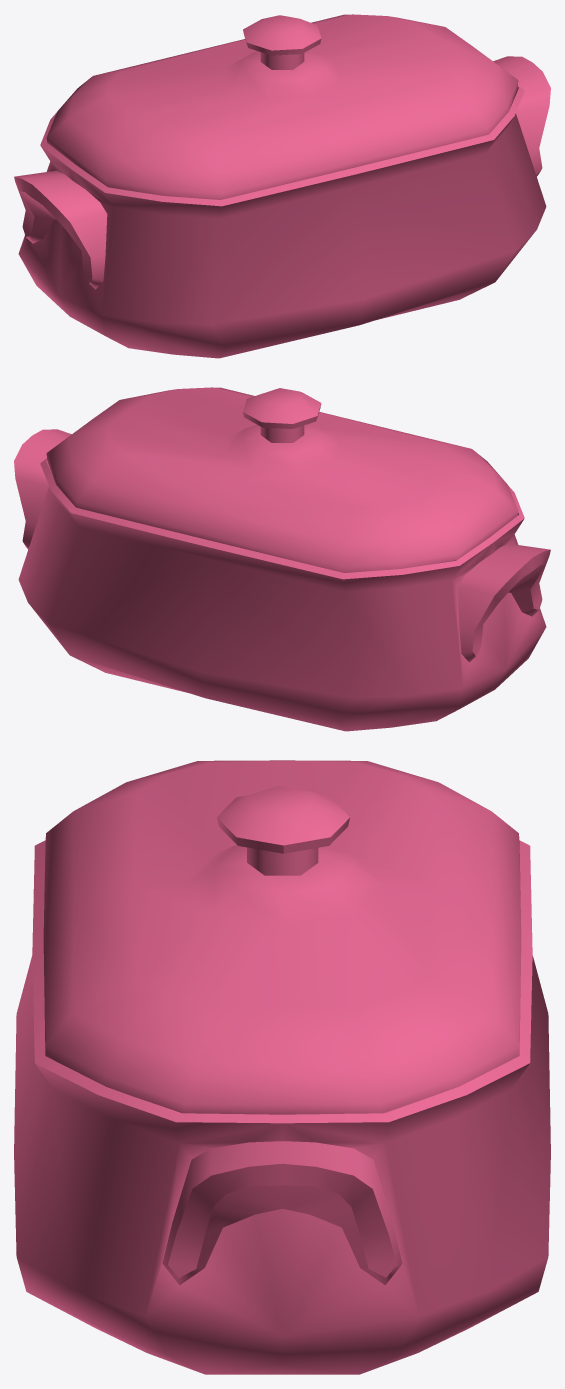
File: Tableware_V6_2.fbx
3 views of the same model, one above another, from view 1: azimuth 30°, elevation 25°; view 2: azimuth 150°, elevation 25°; view 3: azimuth 270°, elevation 25° (orthographic). The views are drawn at different scales.
Parts seen in each view (by area): view 1: SM_Tableware_V6_2; view 2: SM_Tableware_V6_2; view 3: SM_Tableware_V6_2.
Part boxes in pixels (<box>): SM_Tableware_V6_2: <box>14,14,550,358</box>; SM_Tableware_V6_2: <box>14,387,550,731</box>; SM_Tableware_V6_2: <box>14,760,550,1374</box>.
Size of the model in its own units: 17.46 by 8.76 by 9.88.
